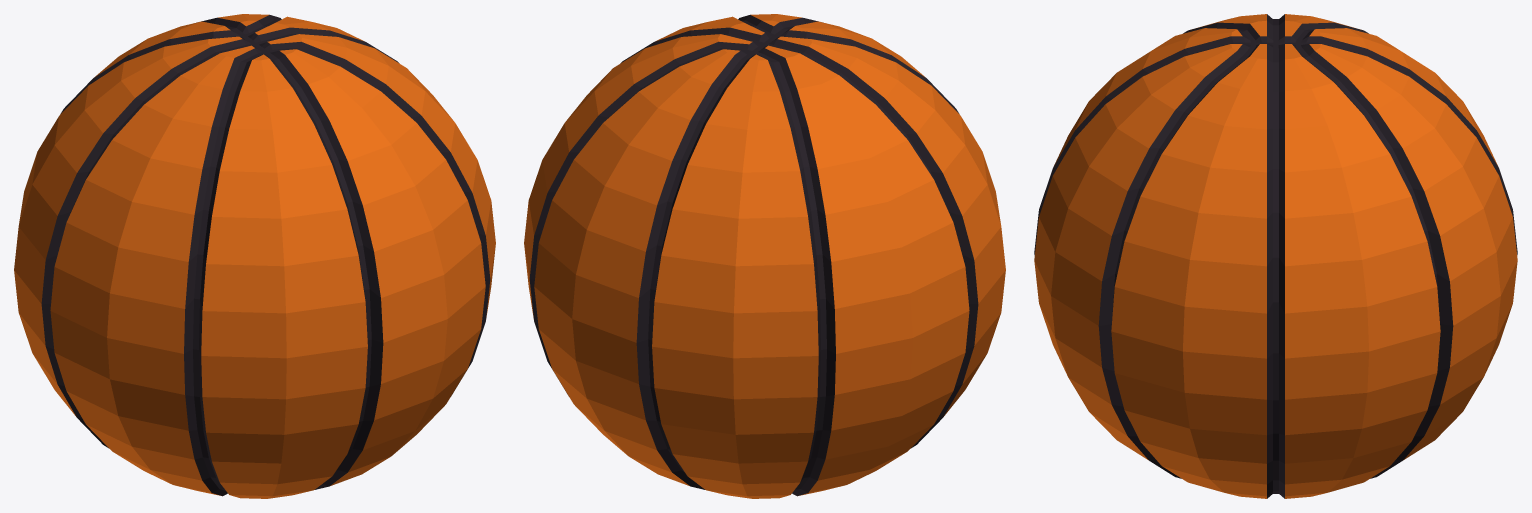
File: Basketball01.fbx
3 renders of one model, left to right at view 1: azimuth 30°, elevation 25°; view 2: azimuth 150°, elevation 25°; view 3: azimuth 270°, elevation 25°, orthographic.
Visible parts, largest first — view 1: Sphere.001; view 2: Sphere.001; view 3: Sphere.001.
Part boxes in pixels (box(x1,y1,x2,y2)): Sphere.001: box(14, 14, 495, 498); Sphere.001: box(524, 14, 1005, 498); Sphere.001: box(1034, 14, 1517, 498).
Bounding box in the file's own units: 199 × 196 × 199.
